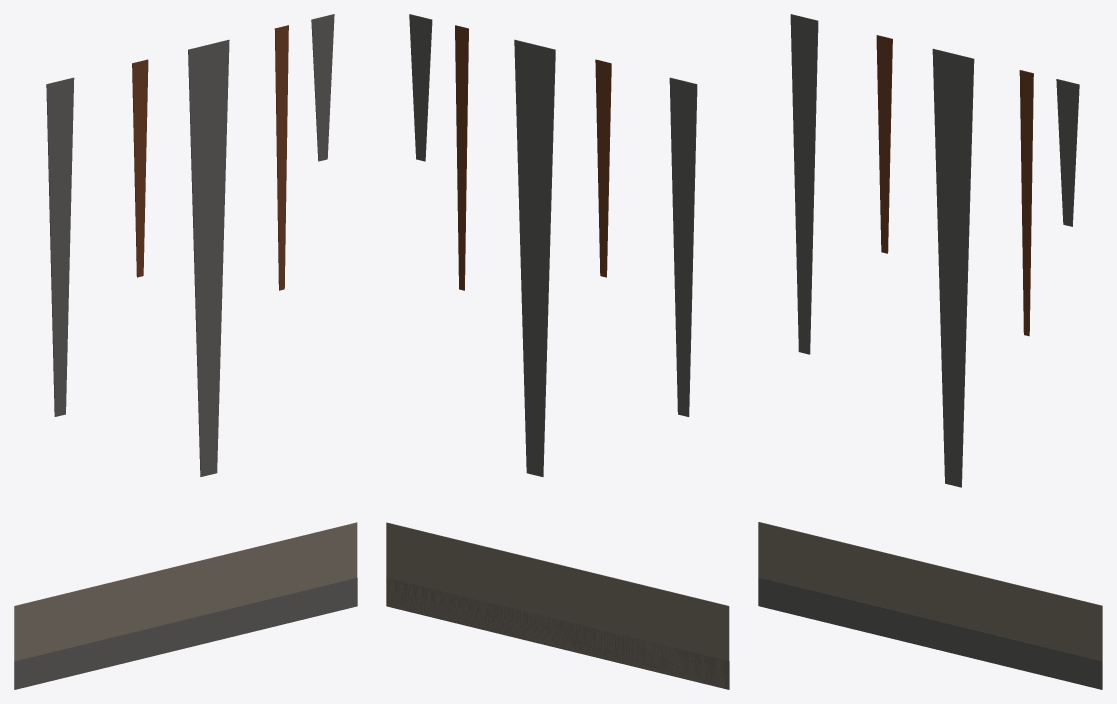
File: wall_grime.glb
3 views of the same model, side by side, from view 1: azimuth 30°, elevation 25°; view 2: azimuth 150°, elevation 25°; view 3: azimuth 330°, elevation 25° (orthographic).
Visible parts, largest first — view 1: wall_grime; view 2: wall_grime; view 3: wall_grime.
Boxes of the visible parts, x1,y1,x2,y2 form: wall_grime: [14, 14, 357, 689]; wall_grime: [386, 14, 729, 689]; wall_grime: [758, 14, 1102, 689].
Bounding box in the file's own units: 1.5 × 2.5 × 0.004.
Materials: 1 (1 with a texture image).
